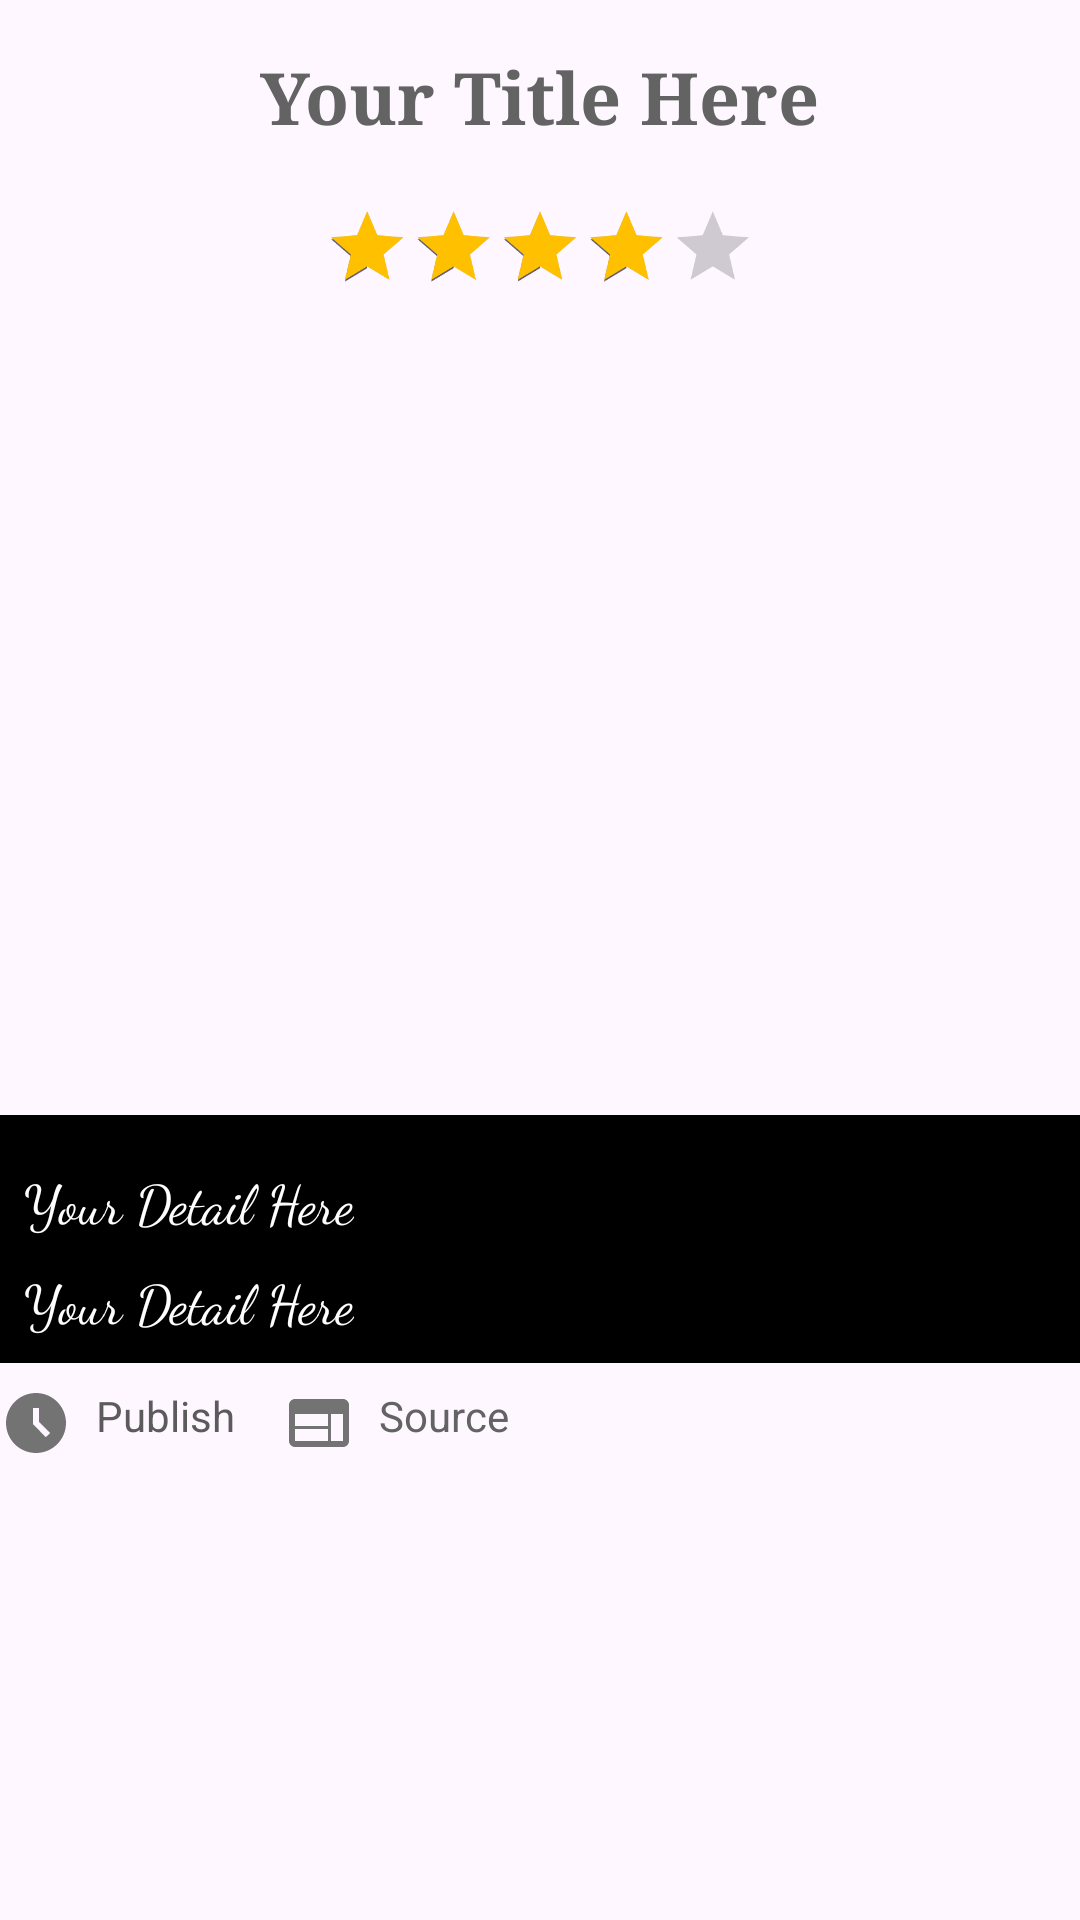

Icons on this 1080×1920 Android screen, each with its box as bbox(x1, y1, x2, y2):
access time: bbox(6, 1393, 66, 1453)
web: bbox(289, 1399, 349, 1447)
